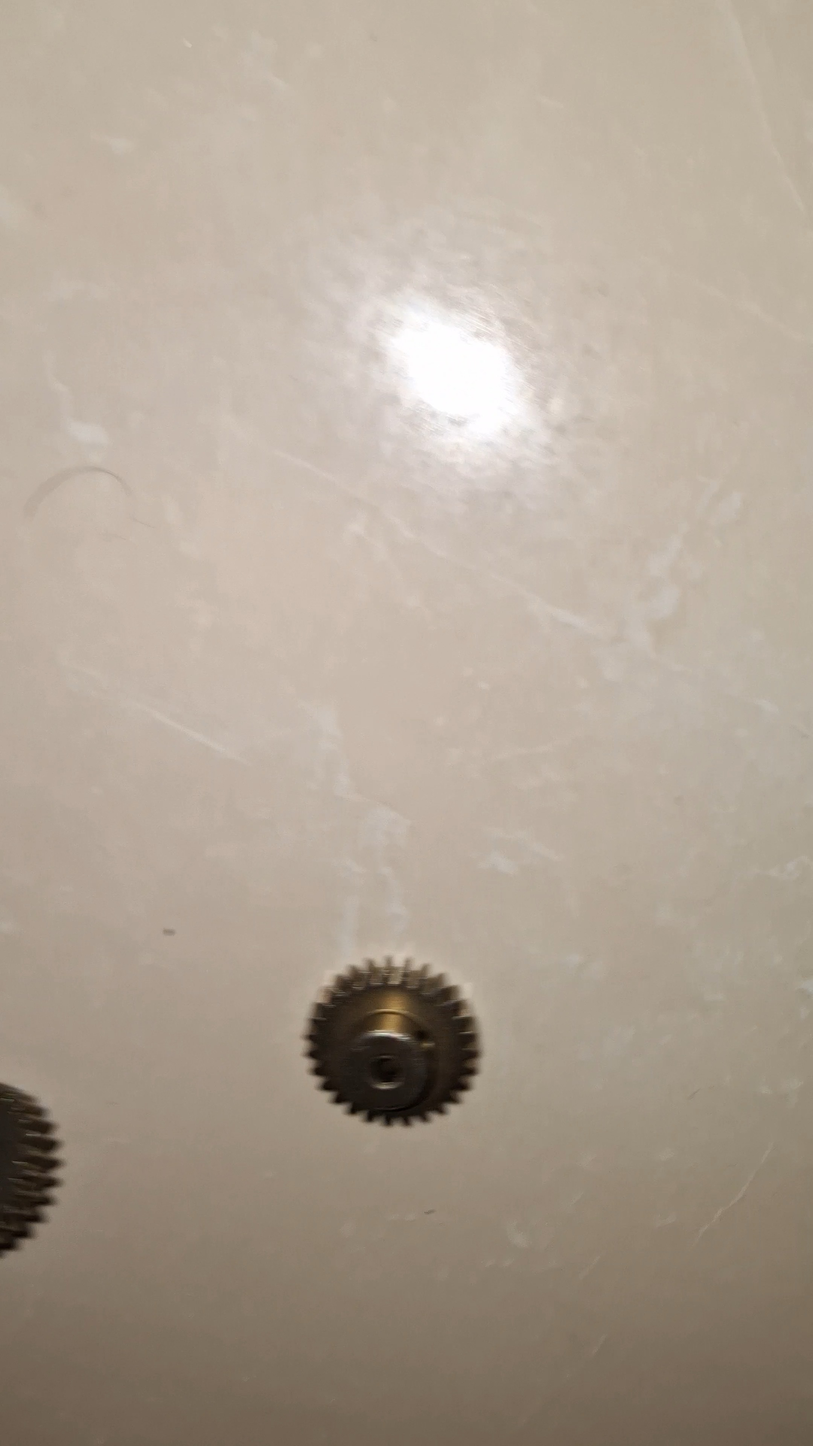spur gear: (306, 959, 477, 1124), (0, 1084, 59, 1255)
